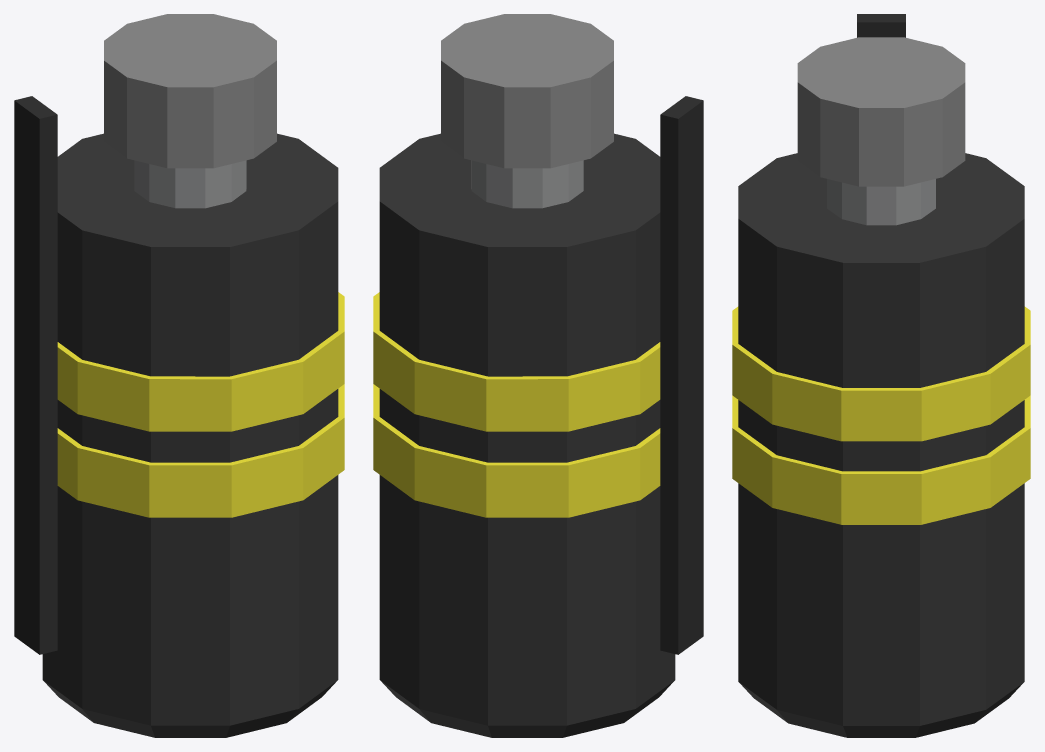
File: ce_handgren_concussion.obj
3 renders of one model, left to right at view 1: azimuth 30°, elevation 25°; view 2: azimuth 150°, elevation 25°; view 3: azimuth 270°, elevation 25°, orthographic. The views are drawn at different scales.
Visible parts, largest first — view 1: ce_handgren_concussion_body, ce_handgren_concussion_head, ce_handgren_concussion_spoon, ce_handgren_concussion_band0, ce_handgren_concussion_band1, ce_handgren_concussion_neck; view 2: ce_handgren_concussion_body, ce_handgren_concussion_head, ce_handgren_concussion_spoon, ce_handgren_concussion_band0, ce_handgren_concussion_band1, ce_handgren_concussion_neck; view 3: ce_handgren_concussion_body, ce_handgren_concussion_head, ce_handgren_concussion_band0, ce_handgren_concussion_band1, ce_handgren_concussion_neck, ce_handgren_concussion_spoon.
Part boxes in pixels (bbox=[...]): ce_handgren_concussion_body: bbox=[42, 133, 338, 737]; ce_handgren_concussion_head: bbox=[104, 14, 276, 168]; ce_handgren_concussion_spoon: bbox=[14, 96, 57, 654]; ce_handgren_concussion_band0: bbox=[57, 292, 344, 431]; ce_handgren_concussion_band1: bbox=[57, 384, 344, 517]; ce_handgren_concussion_neck: bbox=[134, 160, 246, 208]; ce_handgren_concussion_body: bbox=[379, 133, 675, 737]; ce_handgren_concussion_head: bbox=[441, 14, 613, 168]; ce_handgren_concussion_spoon: bbox=[660, 96, 703, 654]; ce_handgren_concussion_band0: bbox=[373, 292, 660, 431]; ce_handgren_concussion_band1: bbox=[373, 384, 660, 517]; ce_handgren_concussion_neck: bbox=[471, 160, 583, 208]; ce_handgren_concussion_body: bbox=[738, 153, 1024, 737]; ce_handgren_concussion_head: bbox=[797, 37, 965, 186]; ce_handgren_concussion_band0: bbox=[732, 306, 1030, 441]; ce_handgren_concussion_band1: bbox=[732, 395, 1030, 524]; ce_handgren_concussion_neck: bbox=[827, 179, 935, 225]; ce_handgren_concussion_spoon: bbox=[857, 14, 905, 37].
Size of the model in its own units: 0.0812 by 0.165 by 0.073.
